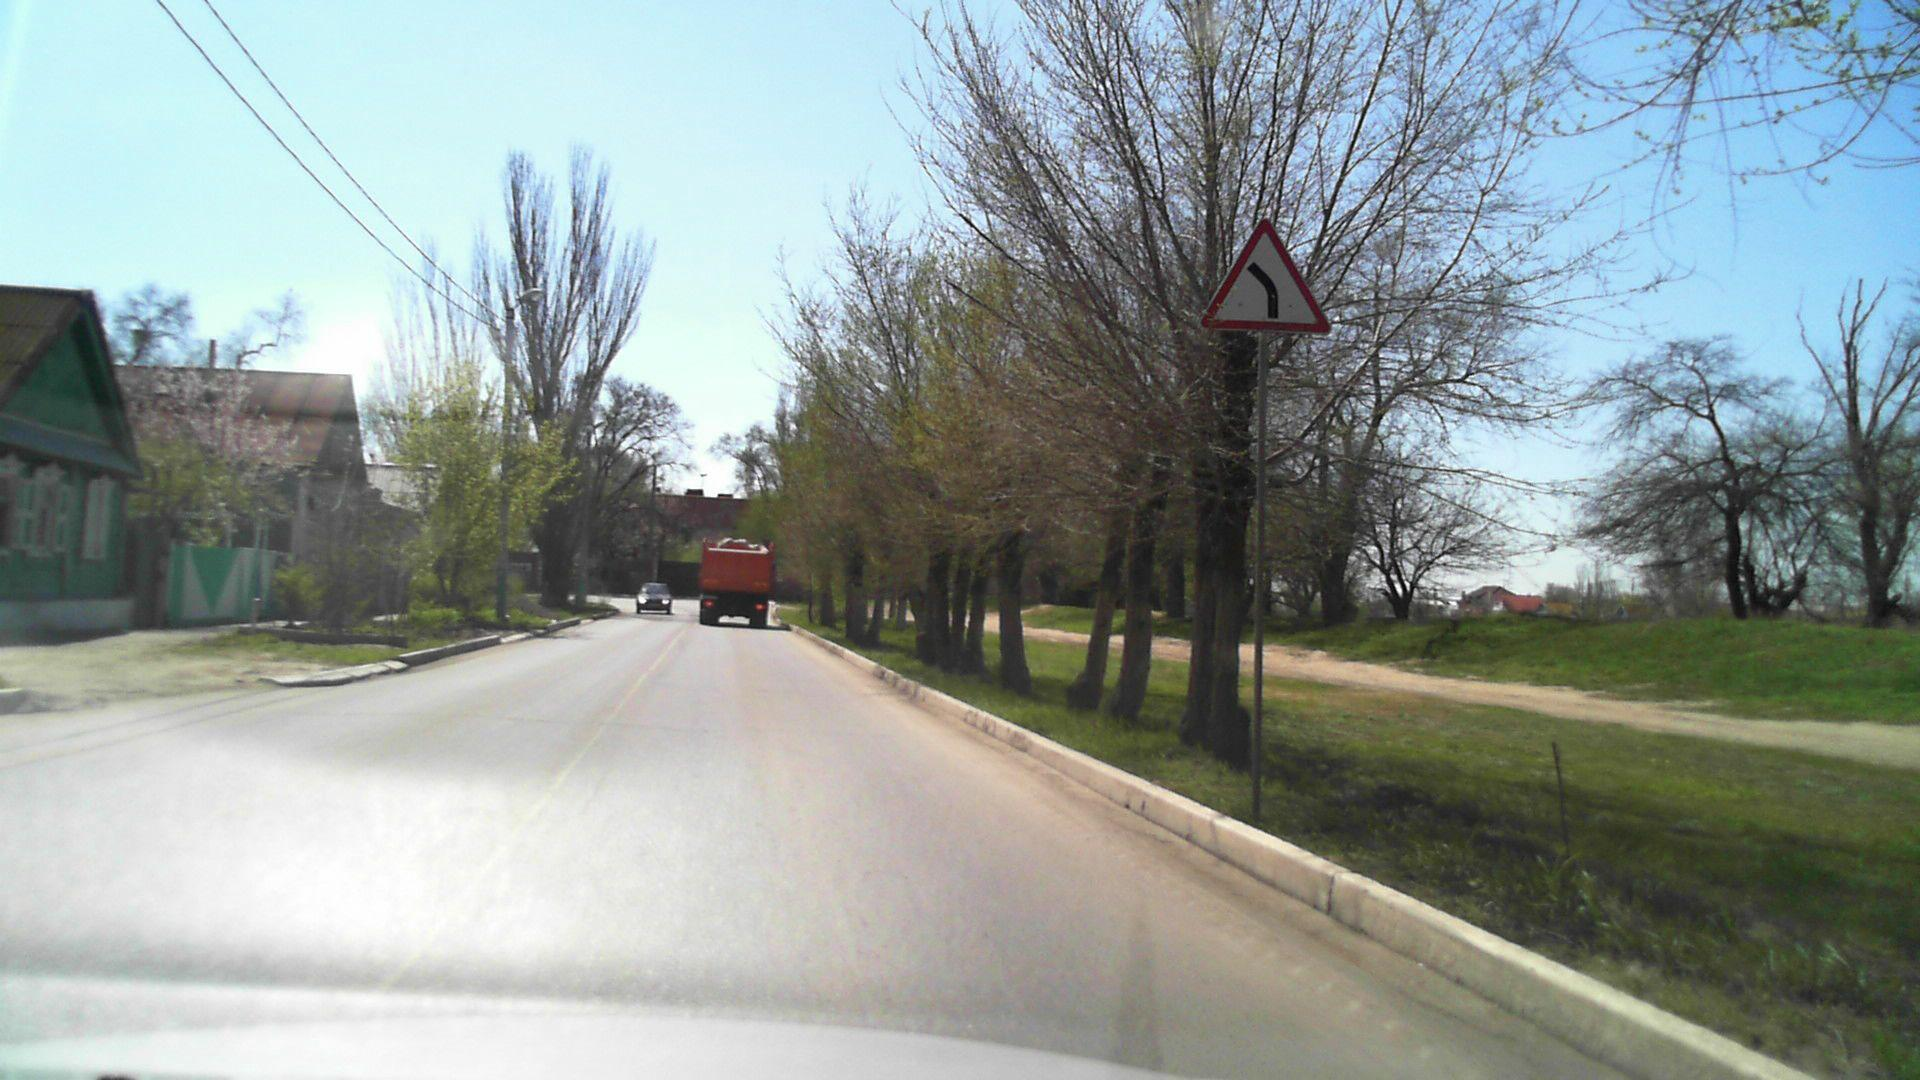1_11_1: (1195, 218, 1336, 336)
